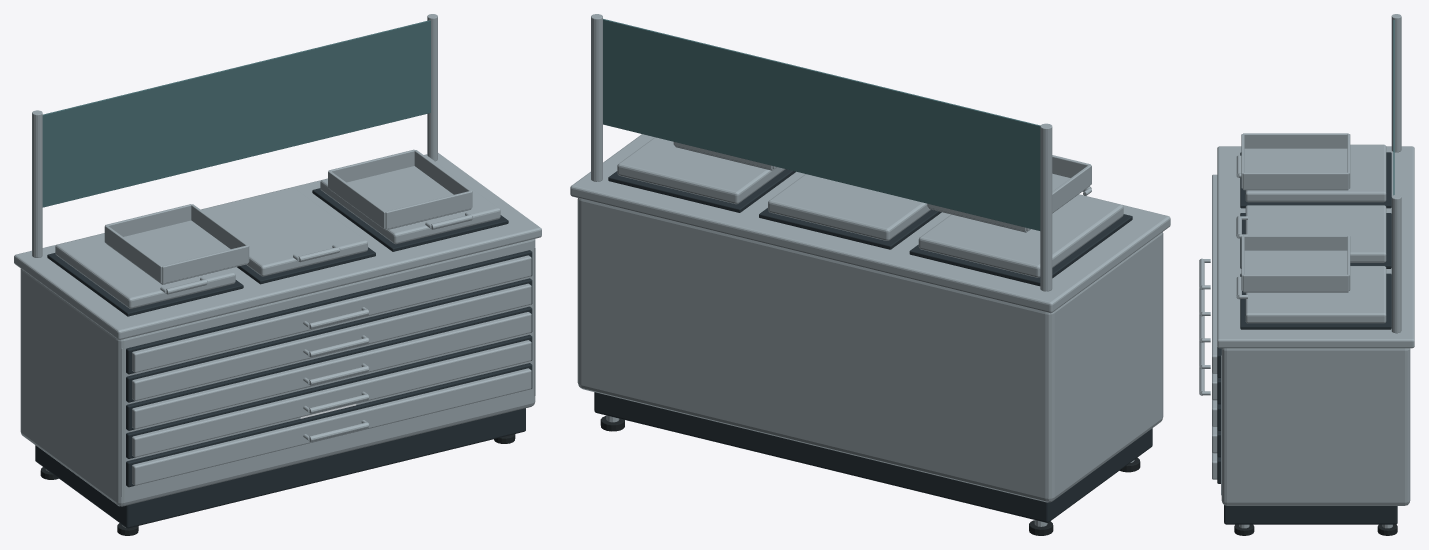
File: SF_MealPreparation.fbx
The picture shows the model from 3 angles, left to right: view 1: azimuth 30°, elevation 25°; view 2: azimuth 150°, elevation 25°; view 3: azimuth 270°, elevation 25°; orthographic projection. The views are drawn at different scales.
Visible parts, largest first — view 1: SF_MealPreparation; view 2: SF_MealPreparation; view 3: SF_MealPreparation.
Boxes of the visible parts, x1,y1,x2,y2 form: SF_MealPreparation: (14,14,541,535); SF_MealPreparation: (570,14,1170,535); SF_MealPreparation: (1199,14,1414,535).
Bounding box in the file's own units: 183 × 149 × 85.65.
